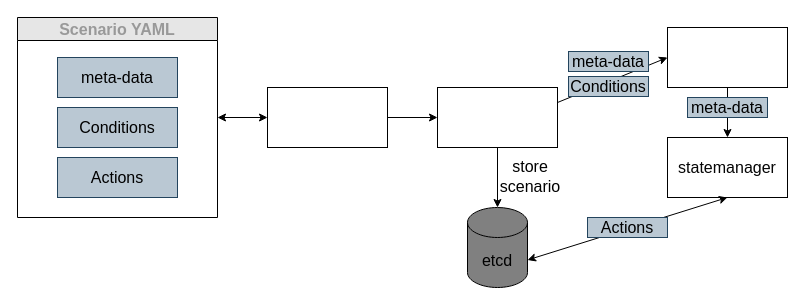
Image size: 805x305. Some labels were removed from this diagram. The box of each missing label's shape, as (x1, y1, x2, y2) in pixels:
api-server: (436, 86, 558, 148)
gateway: (666, 26, 788, 88)
yamlparser: (266, 86, 388, 148)
